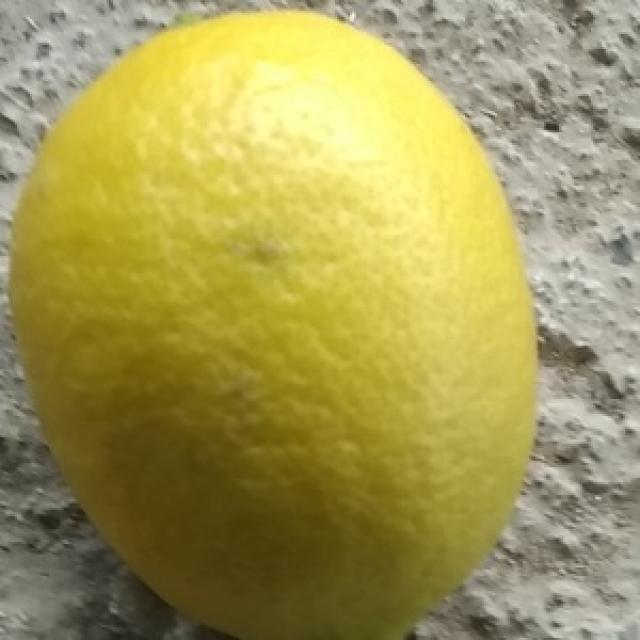Ripe: (0, 5, 544, 640)
